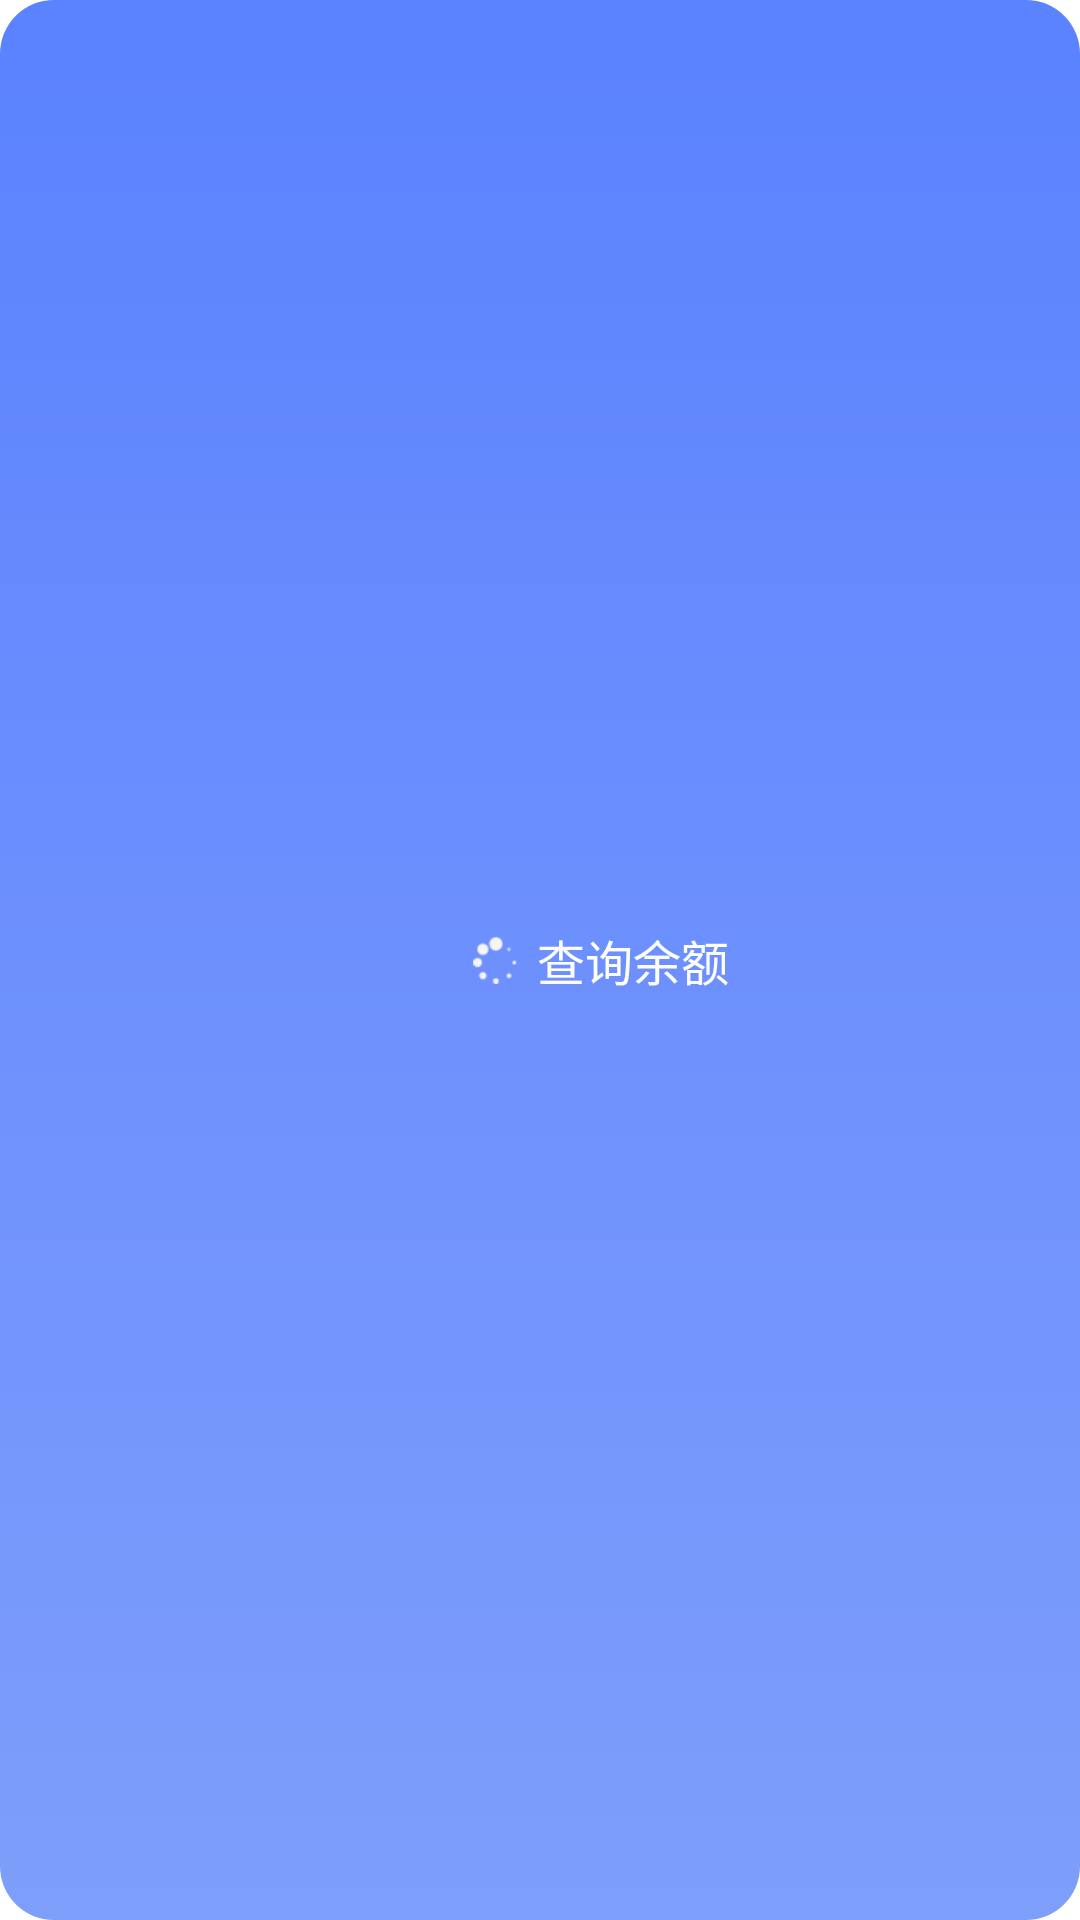

Icon click points for this 1080 × 1920 phone screenshot, format (x=x, y=y):
loading: (x=495, y=960)
